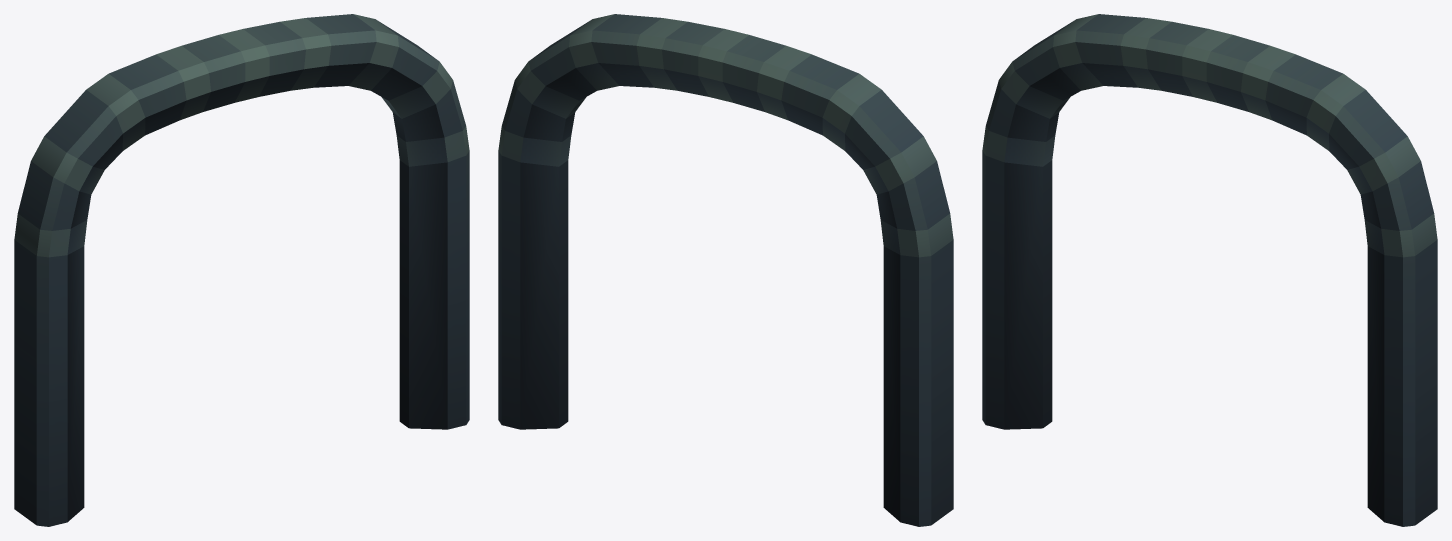
Rendered from doorframe_large.fbx.
The picture shows the model from 3 angles, left to right: view 1: azimuth 30°, elevation 25°; view 2: azimuth 150°, elevation 25°; view 3: azimuth 330°, elevation 25°; orthographic projection.
Parts seen in each view (by area): view 1: doorframe_large; view 2: doorframe_large; view 3: doorframe_large.
Boxes of the visible parts, box(x1,y1,x2,y2) form: doorframe_large: box(14, 14, 469, 526); doorframe_large: box(498, 14, 953, 526); doorframe_large: box(982, 14, 1437, 526).
Size of the model in its own units: 400 by 375 by 50.
